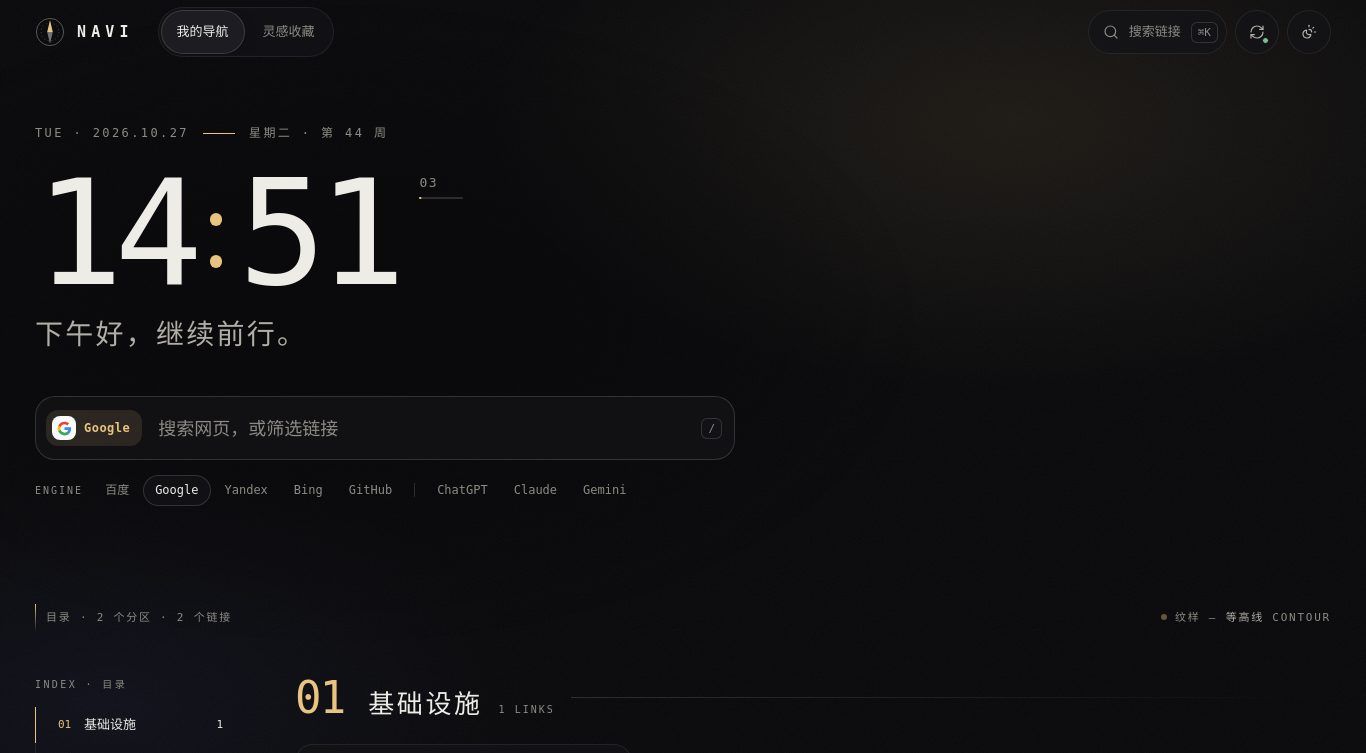
Test case: App › switches pages and remembers the selection
Click the button "灵感收藏": (288, 32) x1=246 y1=10 x2=330 y2=54
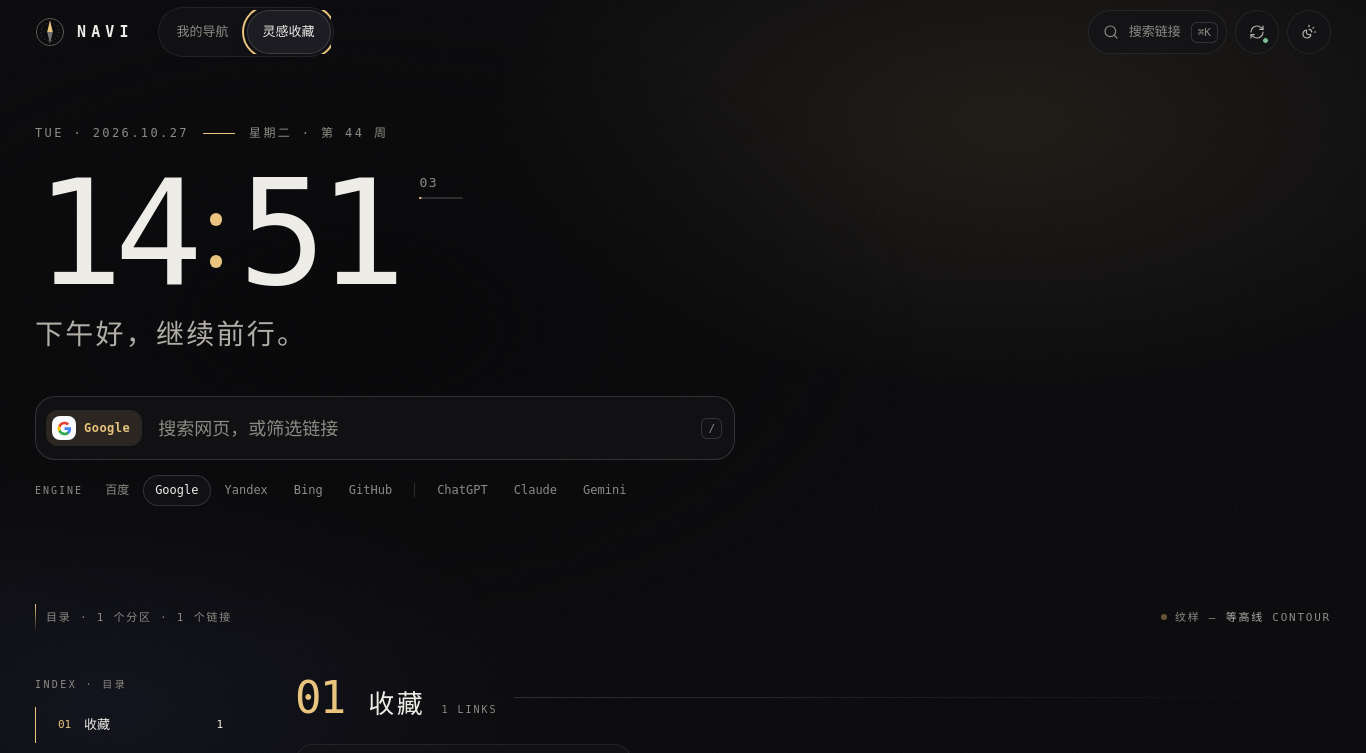
Now the heading "收藏" is shown, box x1=368 y1=689 x2=425 y2=720
